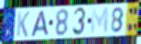3: (70, 6, 88, 37)
8: (55, 8, 69, 37), (111, 6, 125, 34)
A: (30, 10, 50, 38)
K: (15, 11, 31, 39)
M: (90, 6, 110, 35)
